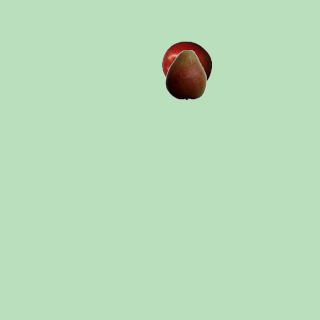Apple Braeburn: (161, 40, 211, 90)
Pear Forelle: (160, 49, 210, 99)
